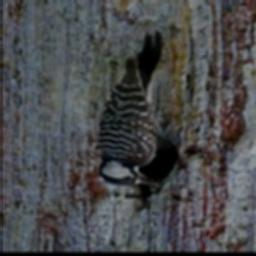Woodpecker: (92, 31, 168, 190)
